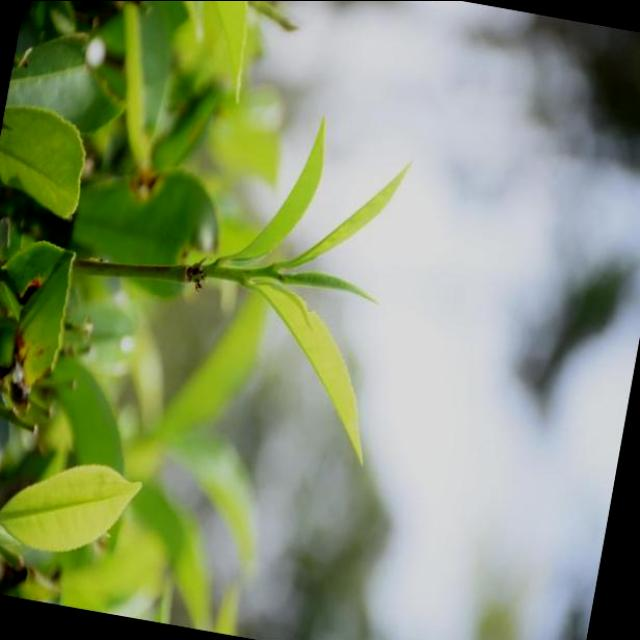Stem: (230, 268, 249, 279)
